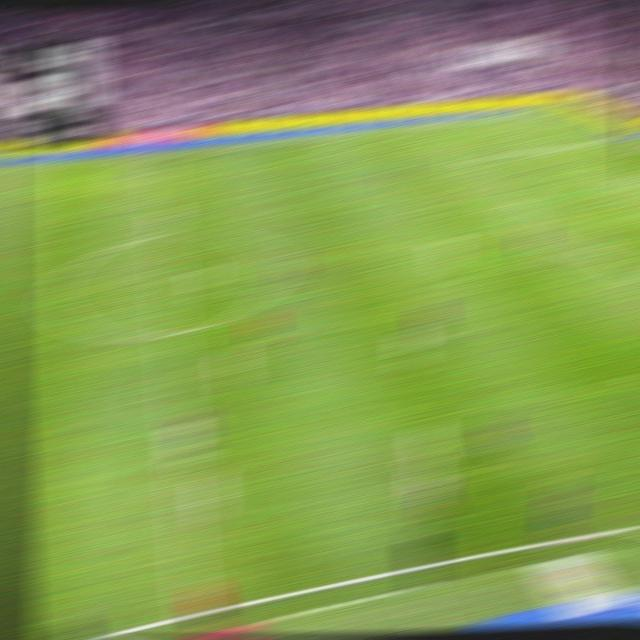bigarea_top_inner: (468, 151, 490, 162)
bottom_arc_area_intersection: (594, 250, 619, 262)
halfcircle_bottom: (158, 322, 186, 343)
halfcircle_top: (149, 227, 177, 242)
midline_bottom_intersection: (177, 602, 207, 622)
midline_top_intersection: (146, 149, 169, 160)
smallarea_top_inner: (613, 172, 634, 180)
top_arc_area_intersection: (517, 190, 539, 200)
